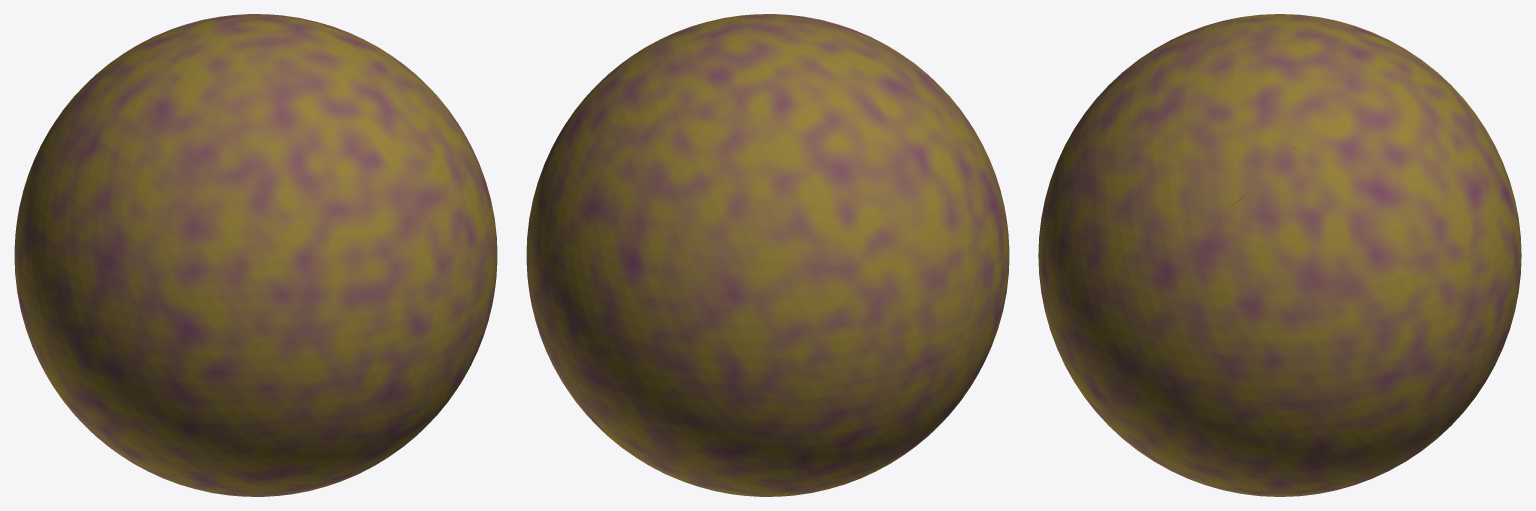
The model's file is Meadow_Temp.fbx.
3 views of the same model, side by side, from view 1: azimuth 30°, elevation 25°; view 2: azimuth 150°, elevation 25°; view 3: azimuth 270°, elevation 25° (orthographic).
Parts seen in each view (by area): view 1: 아이코스피어; view 2: 아이코스피어; view 3: 아이코스피어.
Part boxes in pixels (x1,y1,x2,y2): 아이코스피어: (14,14,497,496); 아이코스피어: (526,14,1009,496); 아이코스피어: (1038,14,1521,496).
Bounding box in the file's own units: 15441 × 15441 × 15441.
Materials: 1 (1 with a texture image).
